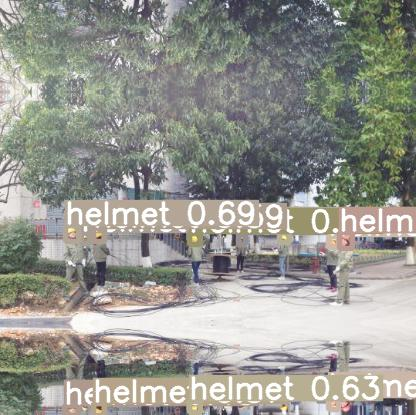helmet: (65, 225, 78, 241), (339, 232, 352, 248), (93, 228, 104, 241), (64, 405, 78, 415), (93, 403, 104, 415), (189, 400, 200, 412), (189, 233, 200, 244), (328, 397, 338, 409), (328, 236, 338, 247), (279, 232, 289, 242), (81, 232, 89, 243), (238, 234, 245, 244)
